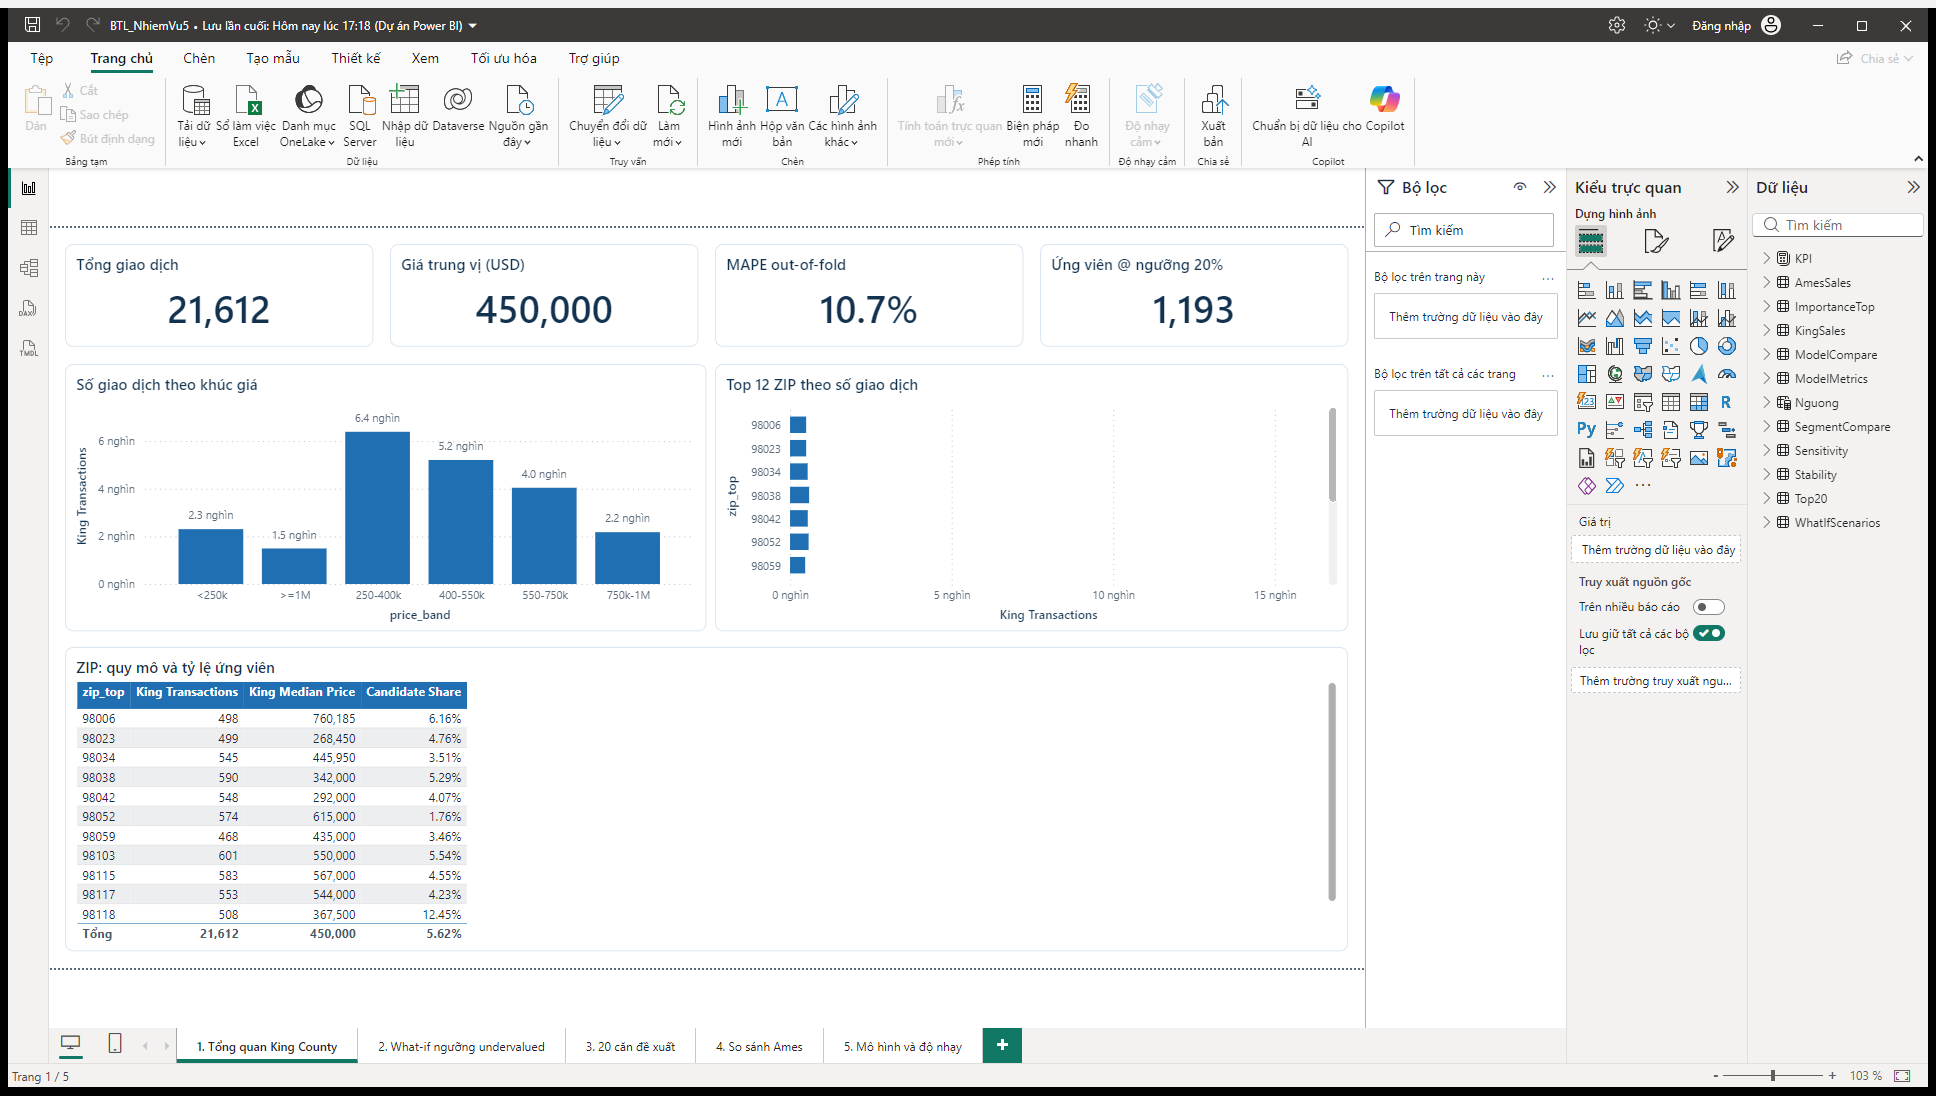

This screenshot's page, from the dashboard's own definition file:
{"tool":"powerbi","page":{"name":"1. Tổng quan King County","canvas":[1280,720],"ordinal":0},"visuals":[{"type":"card","title":"Tổng giao dịch","fields":{"Values":["KPI.KingTx Text"]},"box":[16,16,300,100],"z":1},{"type":"card","title":"Giá trung vị (USD)","fields":{"Values":["KPI.KingMedian Text"]},"box":[332,16,300,100],"z":1},{"type":"card","title":"MAPE out-of-fold","fields":{"Values":["KPI.King OOF MAPE"]},"box":[648,16,300,100],"z":1},{"type":"card","title":"Ứng viên tại ngưỡng 20%","fields":{"Values":["KPI.Candidates Text"]},"box":[964,16,300,100],"z":1},{"type":"clusteredColumnChart","title":"Số giao dịch theo khúc giá","fields":{"Category":["KingSales.Khúc giá"],"Y":["KPI.Số giao dịch"]},"box":[16,132,624,260],"z":1},{"type":"barChart","title":"Số giao dịch theo ZIP (giảm dần)","fields":{"Category":["KingSales.ZIP"],"Y":["KPI.Số giao dịch"]},"box":[648,132,616,260],"z":1},{"type":"tableEx","title":"ZIP: quy mô và tỷ lệ ứng viên","fields":{"Values":["KingSales.Mã ZIP","KPI.Số giao dịch","KPI.Giá trung vị","KPI.Tỷ lệ ứng viên"]},"box":[16,408,1248,248],"z":1},{"type":"pageNavigator","box":[16,664,1248,48],"z":1}]}

Visuals, with their boxes on the page's 1280x720 design canvas (x1, y1, x2, y2). These are canvas units, not pixel positions in the 1936x1096 screenshot, which may show the page scaled, cropped or inside an application window:
"Tổng giao dịch" card: 16,16,316,116
"Giá trung vị (USD)" card: 332,16,632,116
"MAPE out-of-fold" card: 648,16,948,116
"Ứng viên tại ngưỡng 20%" card: 964,16,1264,116
"Số giao dịch theo khúc giá" clusteredColumnChart: 16,132,640,392
"Số giao dịch theo ZIP (giảm dần)" barChart: 648,132,1264,392
"ZIP: quy mô và tỷ lệ ứng viên" tableEx: 16,408,1264,656
pageNavigator: 16,664,1264,712
